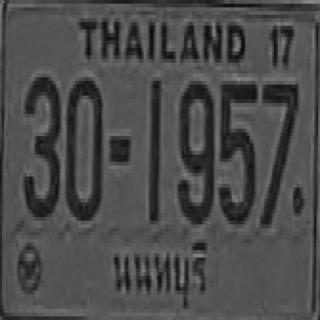N00: (65, 74, 101, 217)
N01: (148, 79, 159, 219)
N03: (23, 74, 60, 217)
N05: (218, 77, 255, 221)
N07: (260, 81, 297, 224)
N09: (176, 77, 213, 221)
P37: (109, 235, 214, 314)
